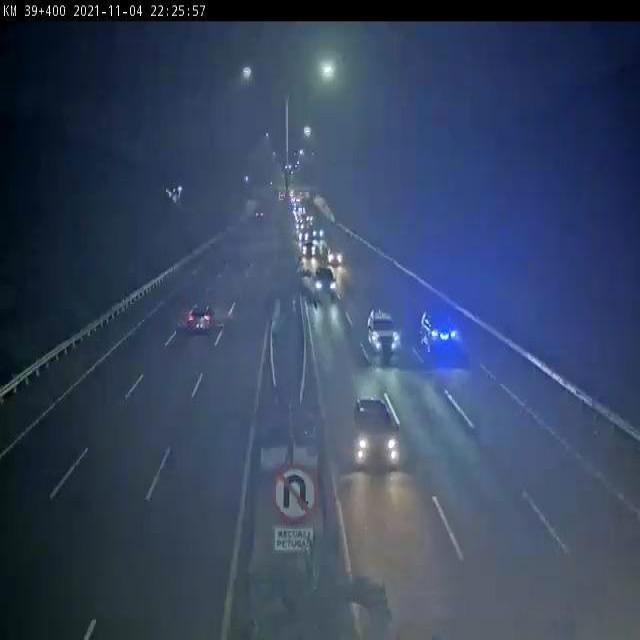car: (351, 398, 399, 471), (422, 313, 460, 359), (367, 312, 402, 353), (313, 269, 337, 300), (189, 304, 212, 331), (324, 244, 342, 265), (303, 244, 315, 259), (300, 231, 310, 240)
